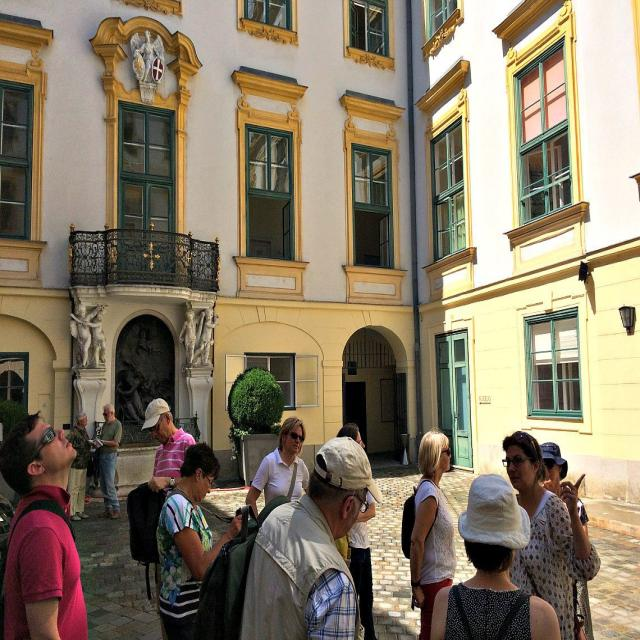body: (194, 433, 384, 640), (497, 427, 603, 639), (429, 472, 562, 640), (0, 409, 92, 639), (151, 440, 246, 640), (400, 429, 458, 640), (538, 442, 591, 638), (138, 398, 198, 568), (333, 426, 378, 640), (244, 416, 312, 520), (124, 19, 176, 113), (90, 402, 123, 520), (68, 296, 112, 373), (65, 410, 94, 522), (177, 302, 218, 372)
